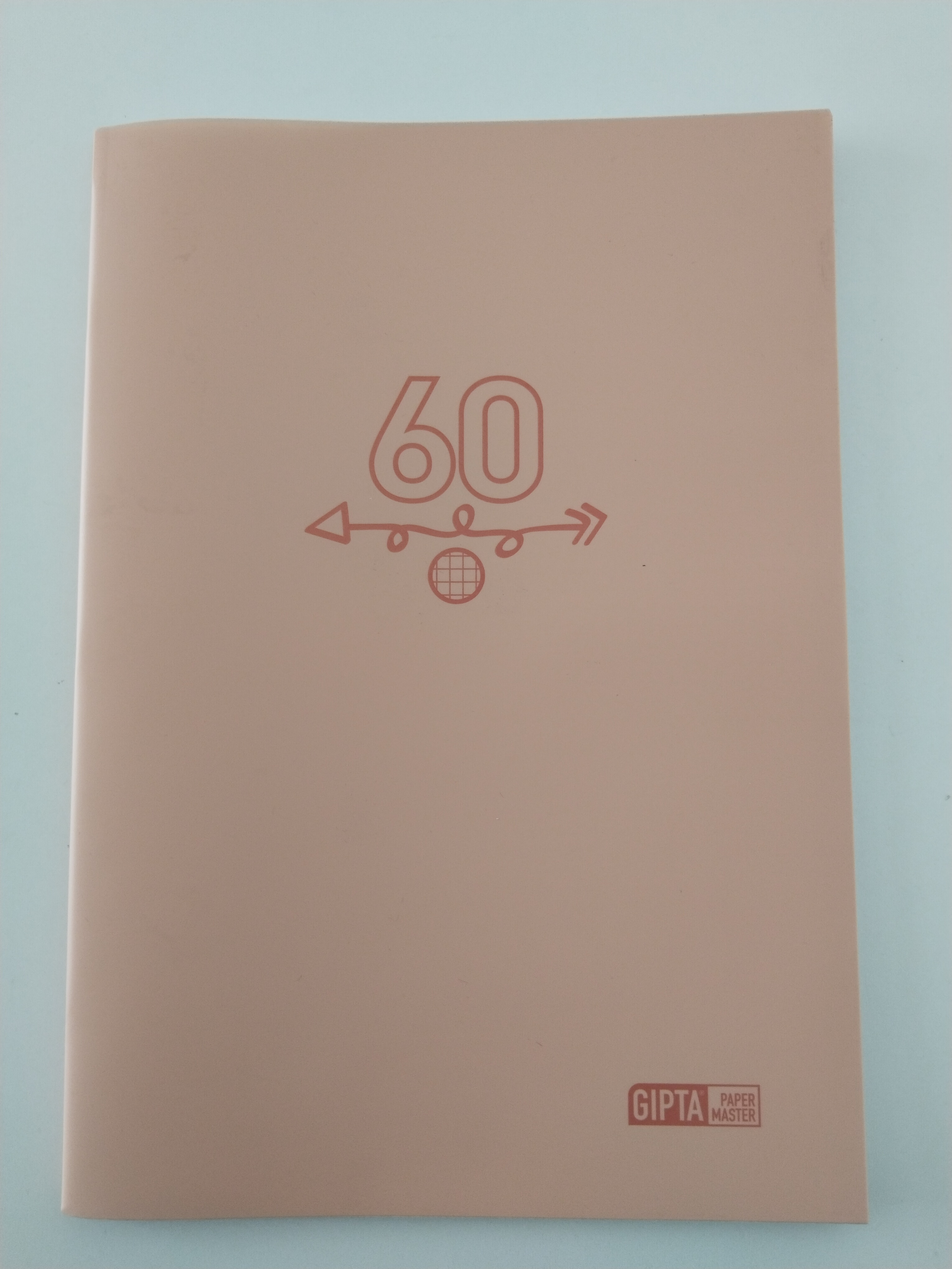60_sayfa_gipta_defter: (71, 123, 946, 1239)
